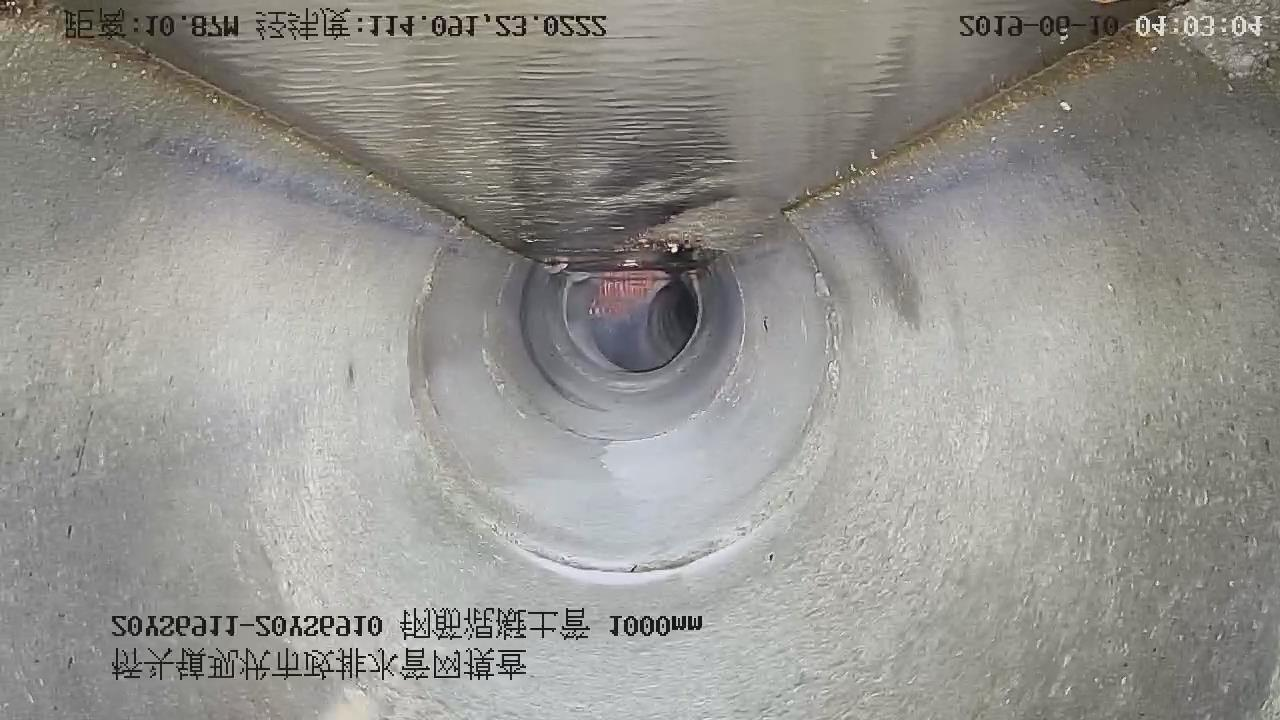CJ: (638, 199, 773, 251)
CKTJ: (495, 246, 842, 585), (619, 269, 705, 380)
